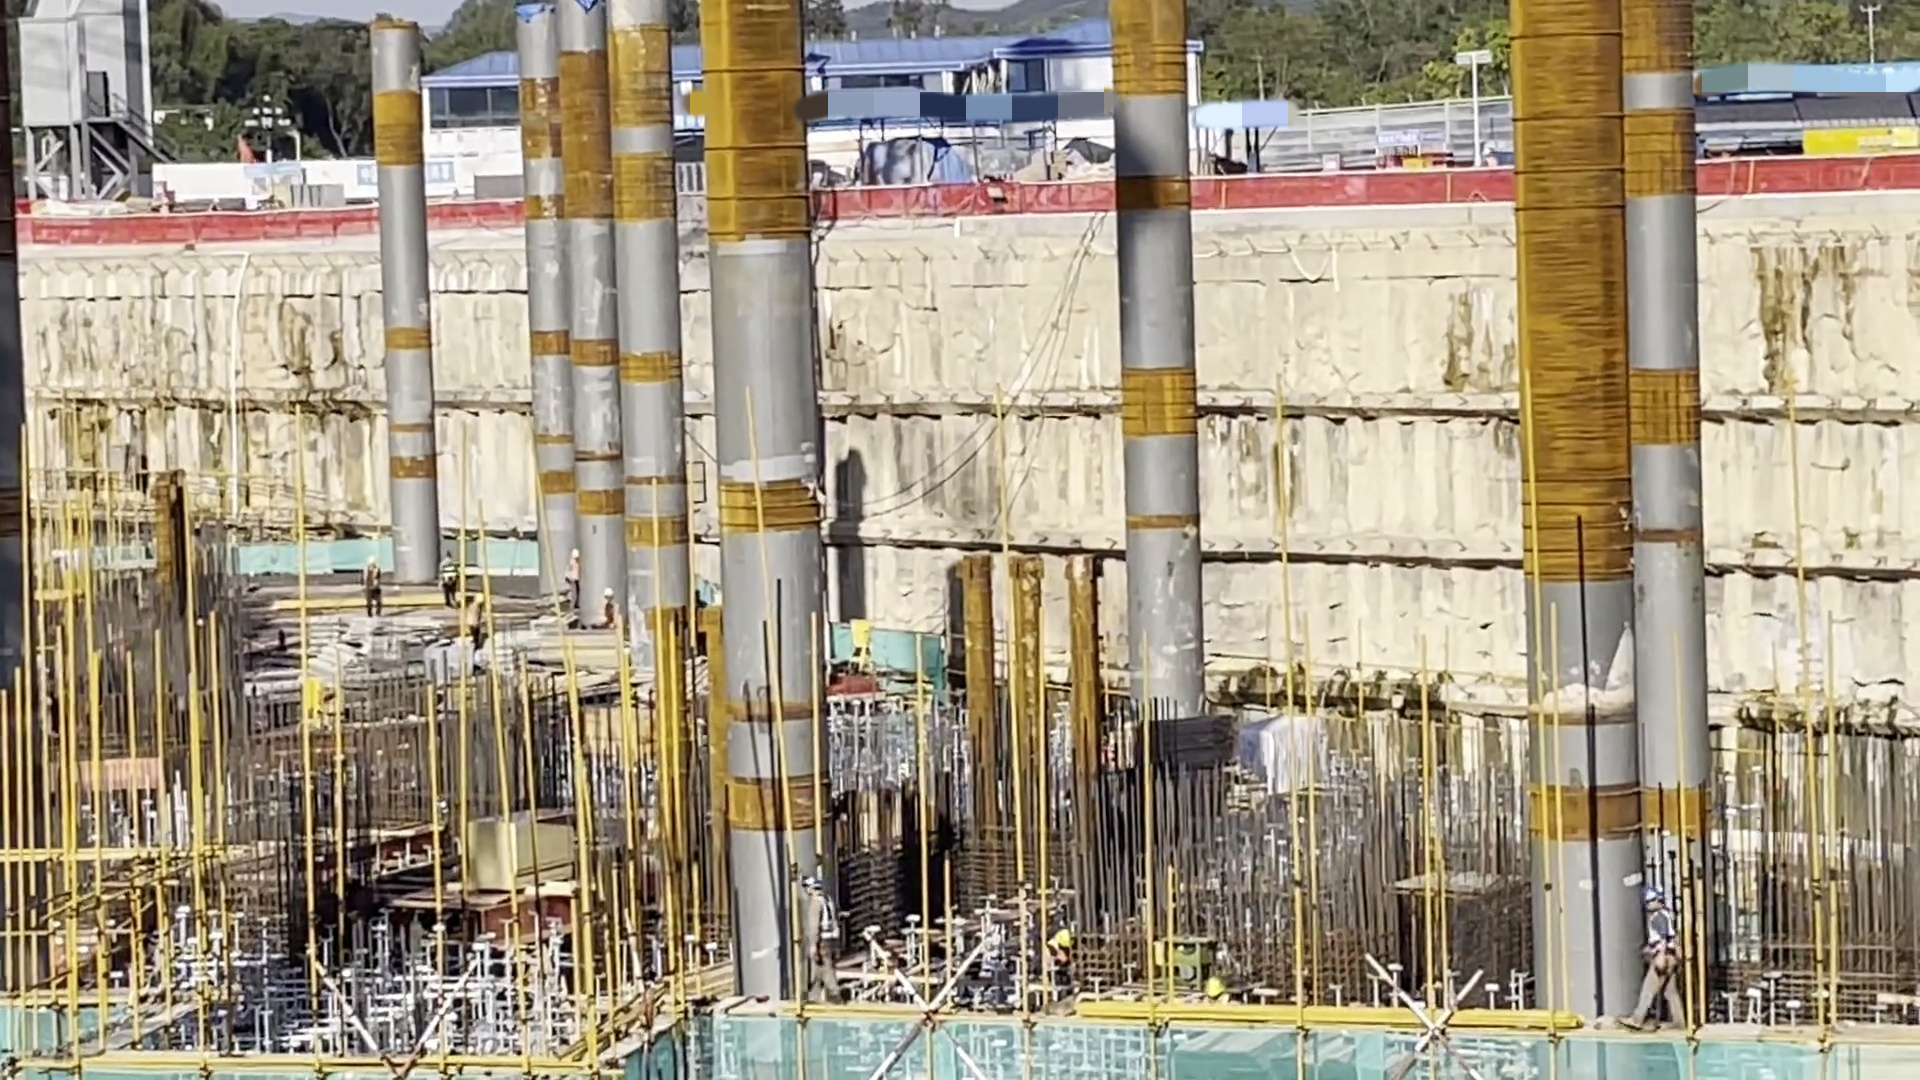helmet: (804, 869, 833, 897), (1646, 892, 1673, 912), (1053, 924, 1071, 946), (571, 547, 584, 566), (1209, 987, 1223, 999), (602, 585, 612, 597), (363, 559, 376, 566), (444, 557, 449, 570)
person: (794, 870, 861, 1001), (1634, 881, 1688, 1031), (1039, 925, 1094, 995), (556, 548, 586, 618), (349, 551, 383, 610), (428, 553, 465, 601), (1205, 965, 1243, 1004), (601, 591, 621, 636)
vest: (806, 897, 857, 946), (1649, 917, 1689, 959), (1041, 950, 1072, 971), (356, 566, 377, 587), (604, 598, 618, 624), (441, 560, 457, 581), (564, 563, 578, 584), (1212, 994, 1238, 1004)
